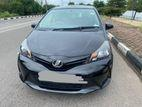car: (17, 4, 115, 96)
